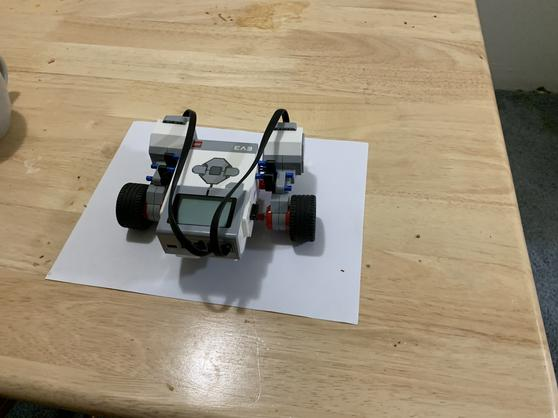robot: (113, 102, 323, 256)
